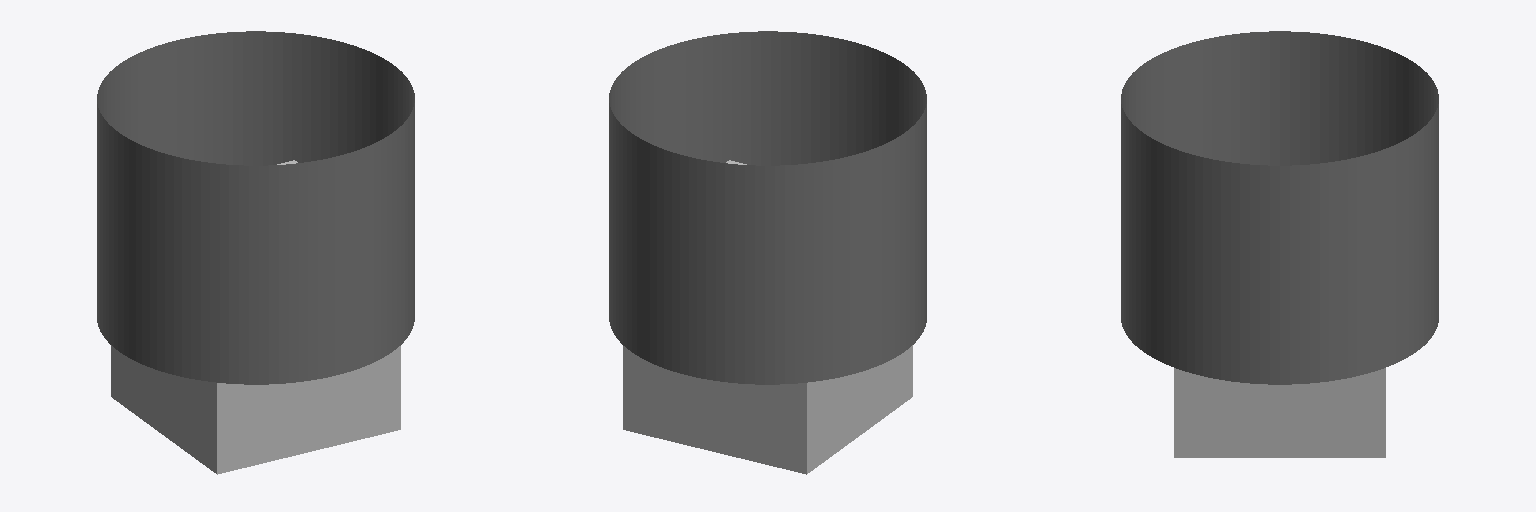
Rendered from TestCylinder.obj.
3 views of the same model, side by side, from view 1: azimuth 30°, elevation 25°; view 2: azimuth 150°, elevation 25°; view 3: azimuth 270°, elevation 25° (orthographic).
Parts seen in each view (by area): view 1: pCylinder1_Mesh.002, Cube; view 2: pCylinder1_Mesh.002, Cube; view 3: pCylinder1_Mesh.002, Cube.
Part boxes in pixels (x1,y1,x2,y2): pCylinder1_Mesh.002: (97,31,414,384); Cube: (111,160,400,474); pCylinder1_Mesh.002: (609,31,926,384); Cube: (623,160,912,474); pCylinder1_Mesh.002: (1121,31,1438,384); Cube: (1174,368,1385,457).
Size of the model in its own units: 3 by 3.28 by 3.